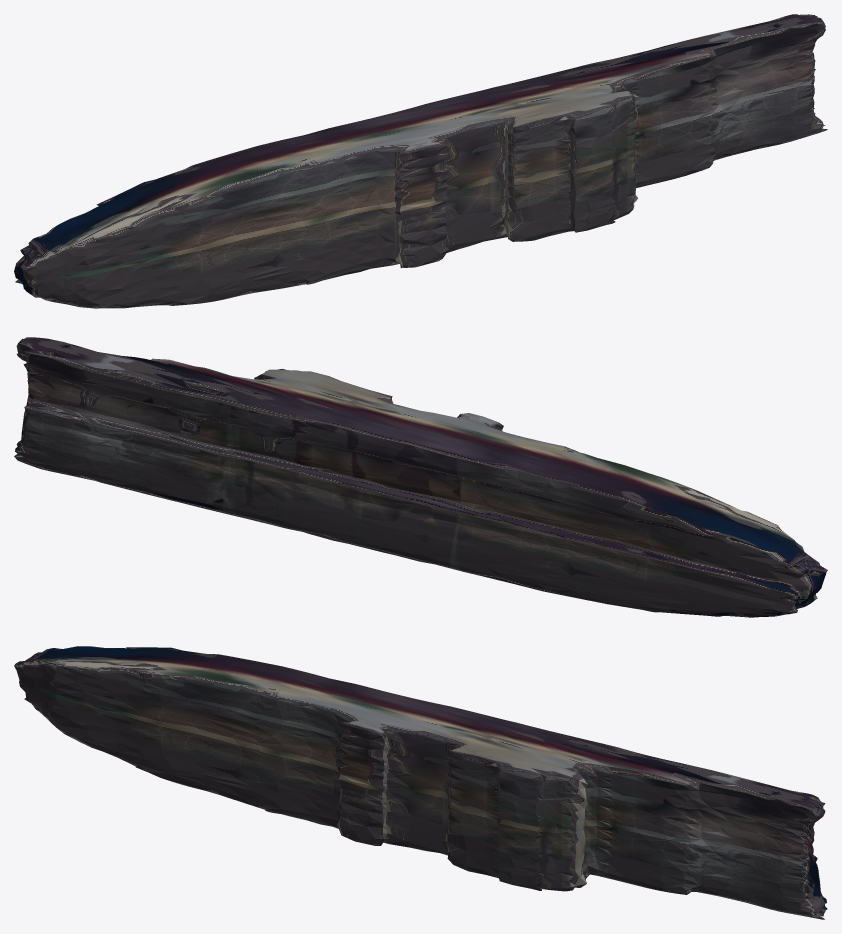
File: vessel_9397303.glb
The picture shows the model from 3 angles, top to bottom: view 1: azimuth 30°, elevation 25°; view 2: azimuth 150°, elevation 25°; view 3: azimuth 330°, elevation 25°; orthographic projection.
Visible parts, largest first — view 1: geometry_0; view 2: geometry_0; view 3: geometry_0.
Boxes of the visible parts, x1,y1,x2,y2 form: geometry_0: (14, 14, 827, 308); geometry_0: (14, 337, 827, 617); geometry_0: (14, 646, 827, 919).
Bounding box in the file's own units: 1.89 × 0.2752 × 0.2129.
1 material, 1 textured.
